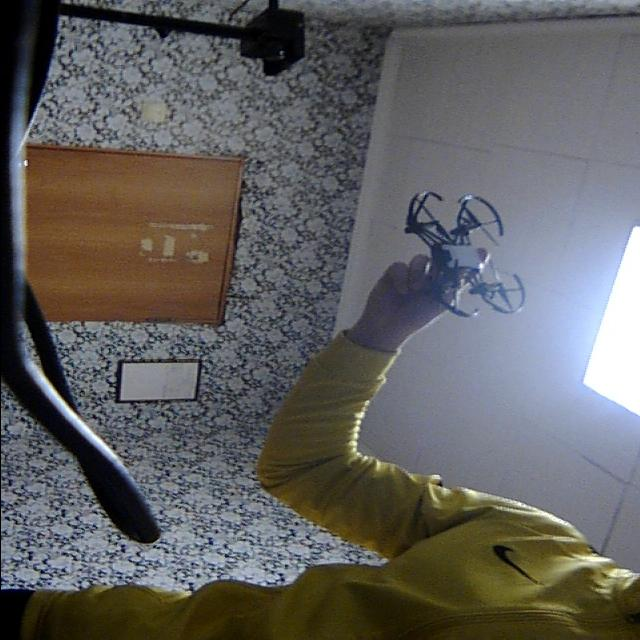drone: (389, 182, 538, 344)
